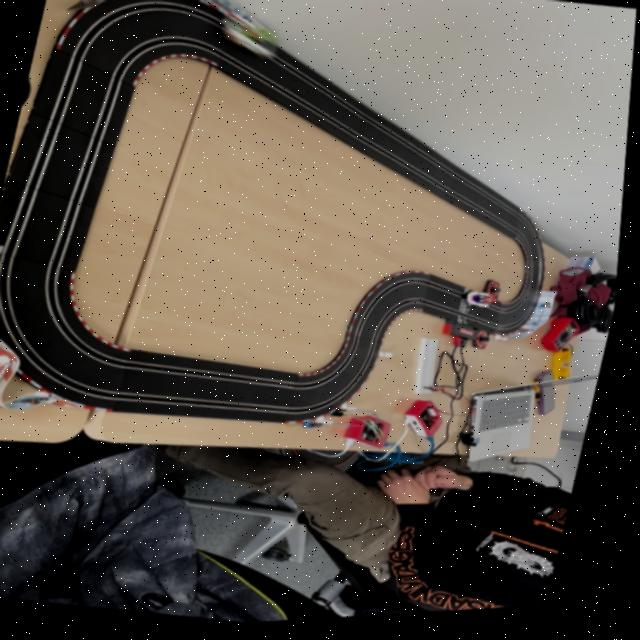mario: (466, 295, 505, 318)
yoshi: (213, 16, 290, 70)
